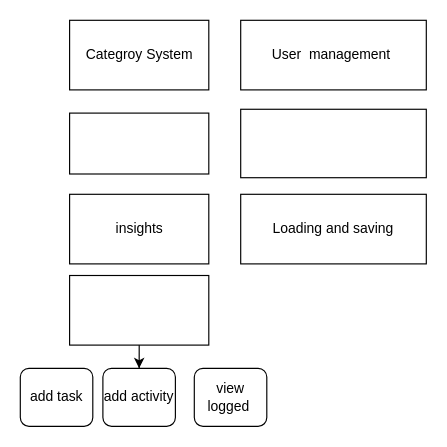
This 447x447 diagram has some shape labels left out. Each missing label, with the centre of its shape:
"Calendar" goes at pixel 138 309.
"Habit Tracking" goes at pixel 333 143.
"Task Managemnet" goes at pixel 138 143.
